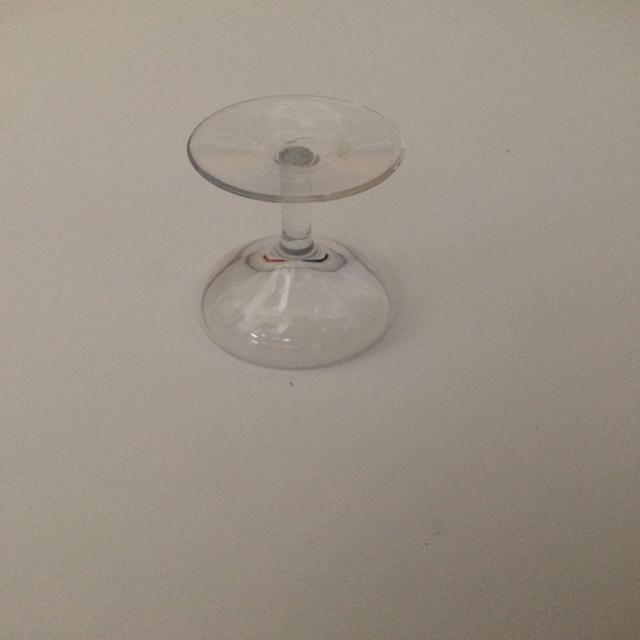glass: (187, 93, 406, 370)
